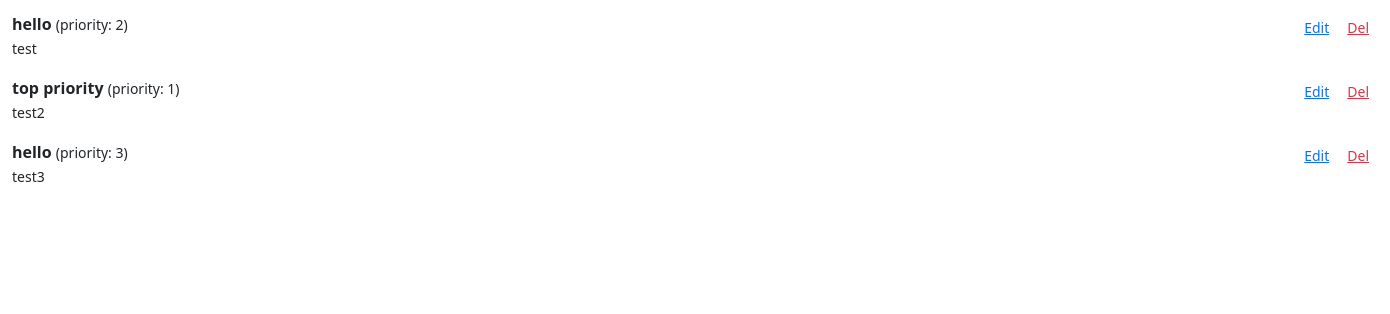
EditableTodoList app › displays editable form when edit clicked
This screenshot has width=1390, height=314.
What coordinates should you click on to do the following:
click the 1st button with class "EditableTodo-toggle"
I would click on:
 (1317, 28)
Its box is [1295, 12, 1338, 43].
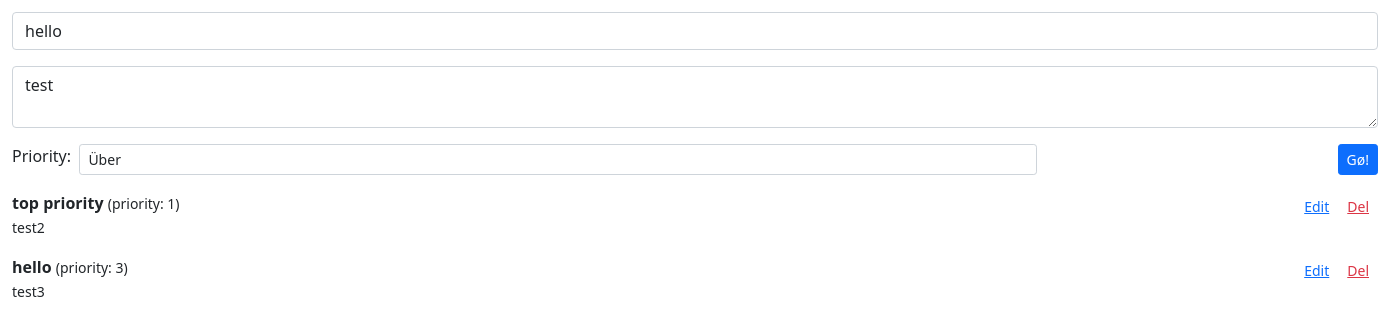
Check: the number of buttons with class "EditableTodo-toggle" is 2, box [1295, 191, 1338, 222]; [1295, 255, 1338, 286]
Check: the form with class "NewTodoForm" is shown, box [12, 12, 1378, 175]
